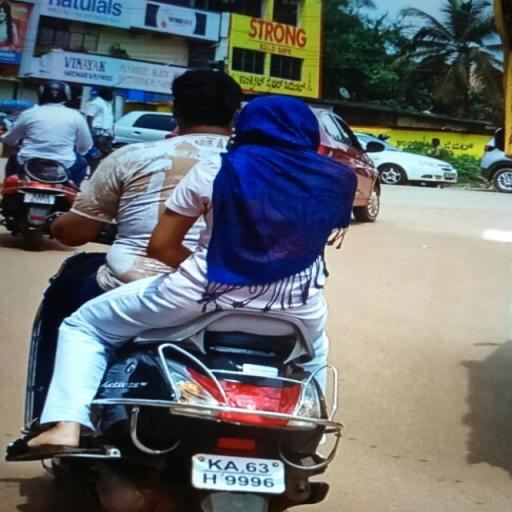bike: (4, 63, 378, 512)
numberplate: (196, 453, 290, 499)
withouthelmet: (173, 72, 238, 130), (246, 96, 314, 146)
